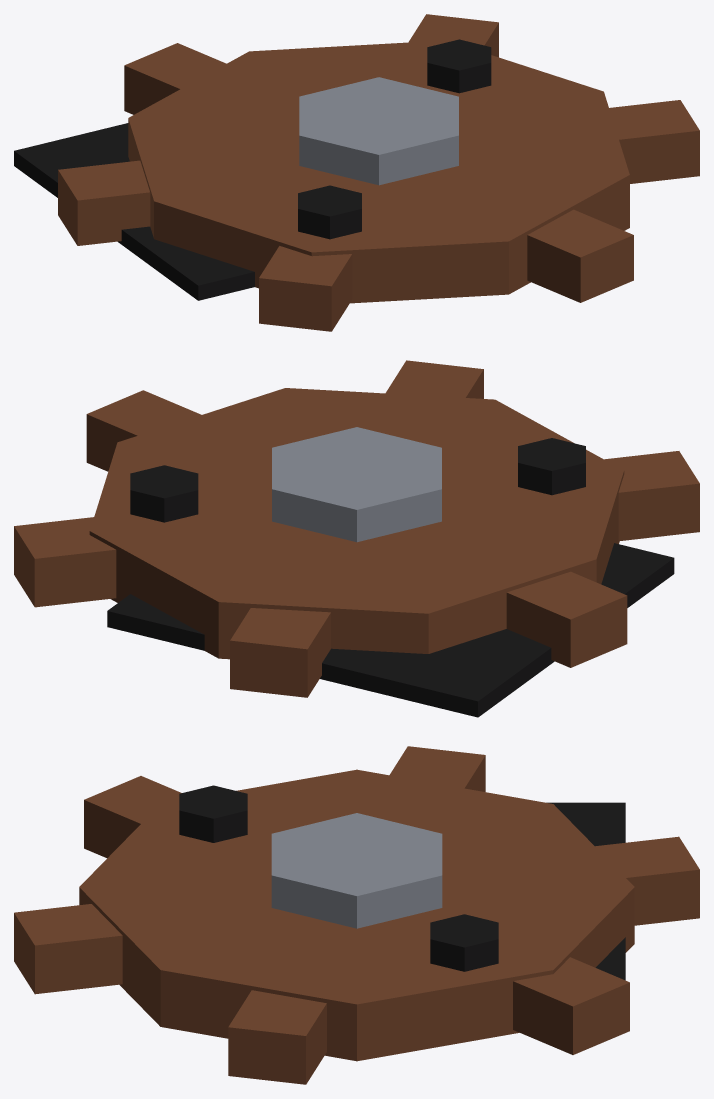
The model's file is salvage_cog_patch.glb.
The picture shows the model from 3 angles, top to bottom: view 1: azimuth 30°, elevation 25°; view 2: azimuth 150°, elevation 25°; view 3: azimuth 270°, elevation 25°; orthographic projection. The views are drawn at different scales.
Bounding box in the file's own units: 0.3828 × 0.055 × 0.3828.
